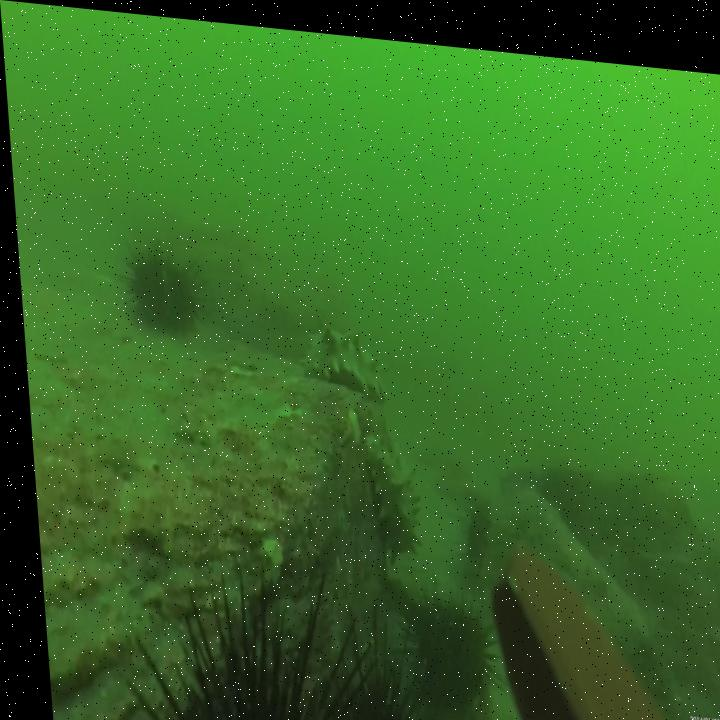echinus: (112, 548, 350, 720), (389, 568, 490, 708), (304, 614, 413, 720), (111, 231, 202, 341), (444, 489, 497, 566)
holothurian: (353, 421, 418, 556), (295, 314, 387, 399)
